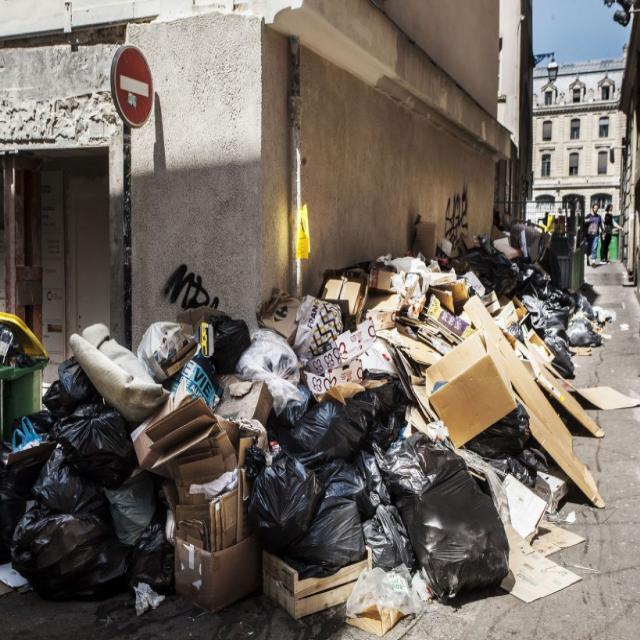garbage: (267, 283, 603, 640), (0, 302, 265, 640), (314, 249, 554, 282), (576, 371, 640, 412), (412, 211, 438, 255)
